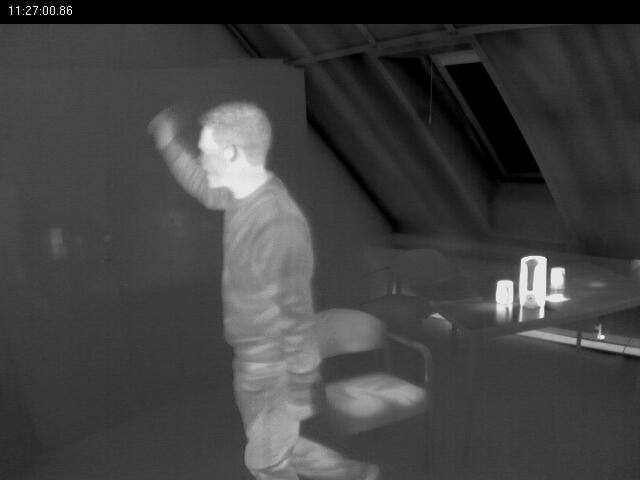person: (151, 97, 329, 476)
